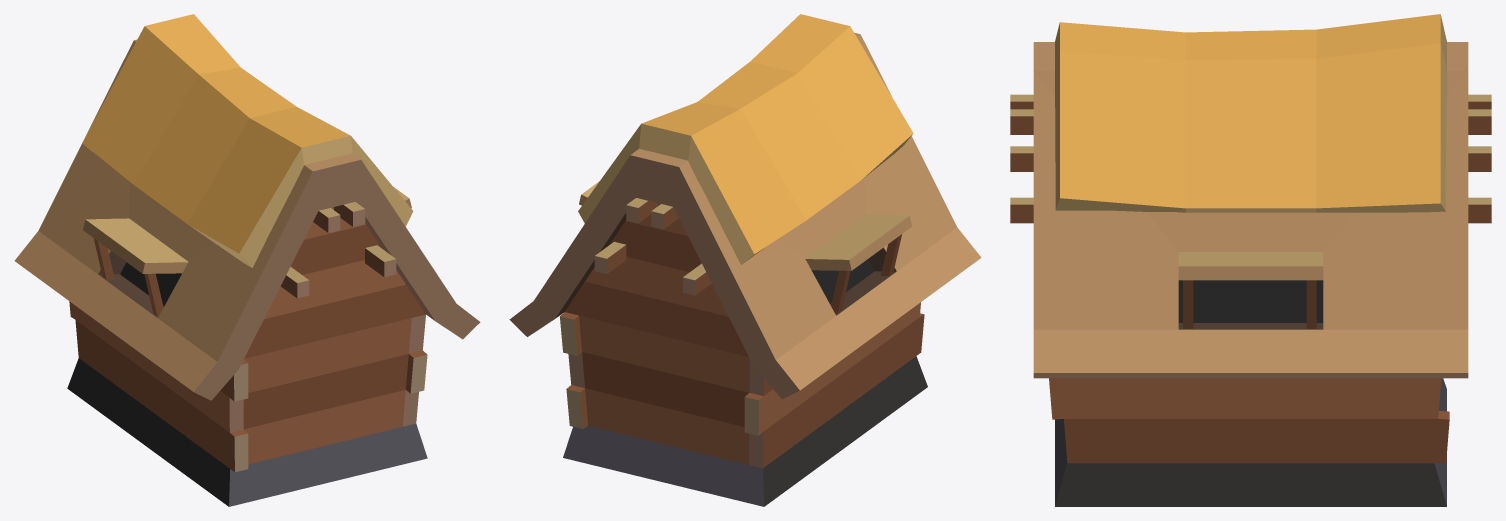
The model's file is TB_Bd_SWHouse_Open.FBX.
The picture shows the model from 3 angles, left to right: view 1: azimuth 30°, elevation 25°; view 2: azimuth 150°, elevation 25°; view 3: azimuth 270°, elevation 25°; orthographic projection. The views are drawn at different scales.
Parts seen in each view (by area): view 1: TB_Bd_SWHouse_Open; view 2: TB_Bd_SWHouse_Open; view 3: TB_Bd_SWHouse_Open.
Part boxes in pixels (x1,y1,x2,y2): TB_Bd_SWHouse_Open: (14,14,480,506); TB_Bd_SWHouse_Open: (509,14,981,506); TB_Bd_SWHouse_Open: (1010,14,1491,506).
Size of the model in its own units: 4.94 by 5.7 by 5.92.
